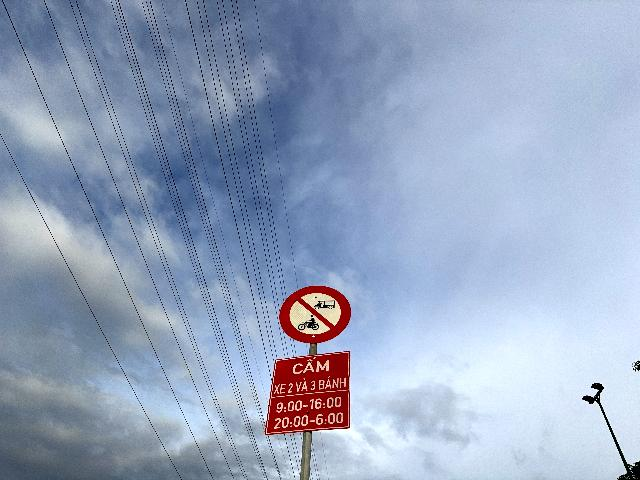cam-xe-2-banh-3-banh: (279, 285, 352, 343)
